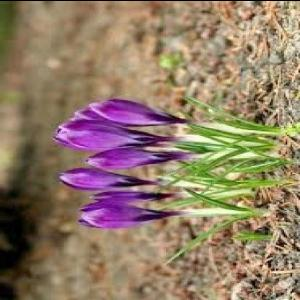Saffron: (68, 98, 180, 126), (50, 120, 154, 148), (74, 202, 178, 227), (86, 144, 179, 169), (57, 165, 144, 190), (90, 189, 169, 204)
